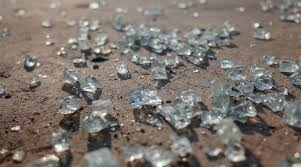glass: (79, 99, 125, 136), (199, 75, 232, 126), (174, 36, 213, 72), (154, 98, 192, 131), (126, 84, 165, 110), (246, 61, 276, 92), (55, 91, 87, 117), (145, 54, 170, 81), (78, 75, 106, 97), (280, 57, 301, 86), (281, 98, 301, 128), (249, 20, 273, 42), (58, 65, 82, 85), (112, 59, 132, 77)
